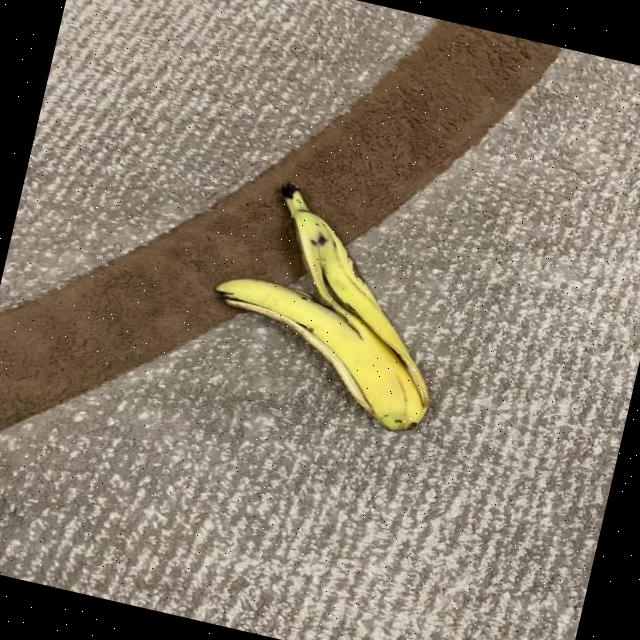banana-peel: (191, 168, 472, 438)
